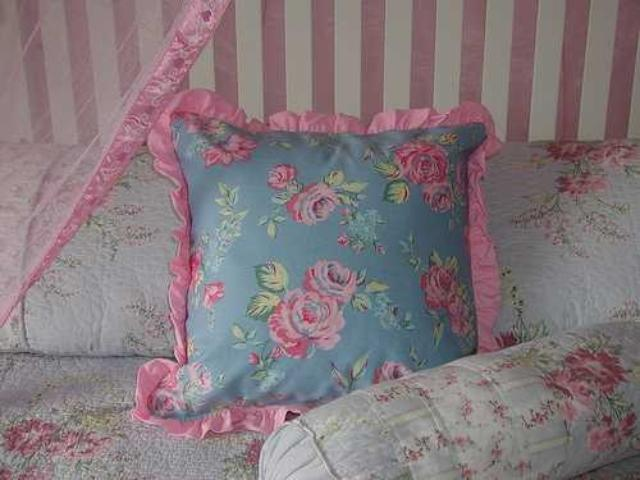pillow: (130, 94, 492, 438)
